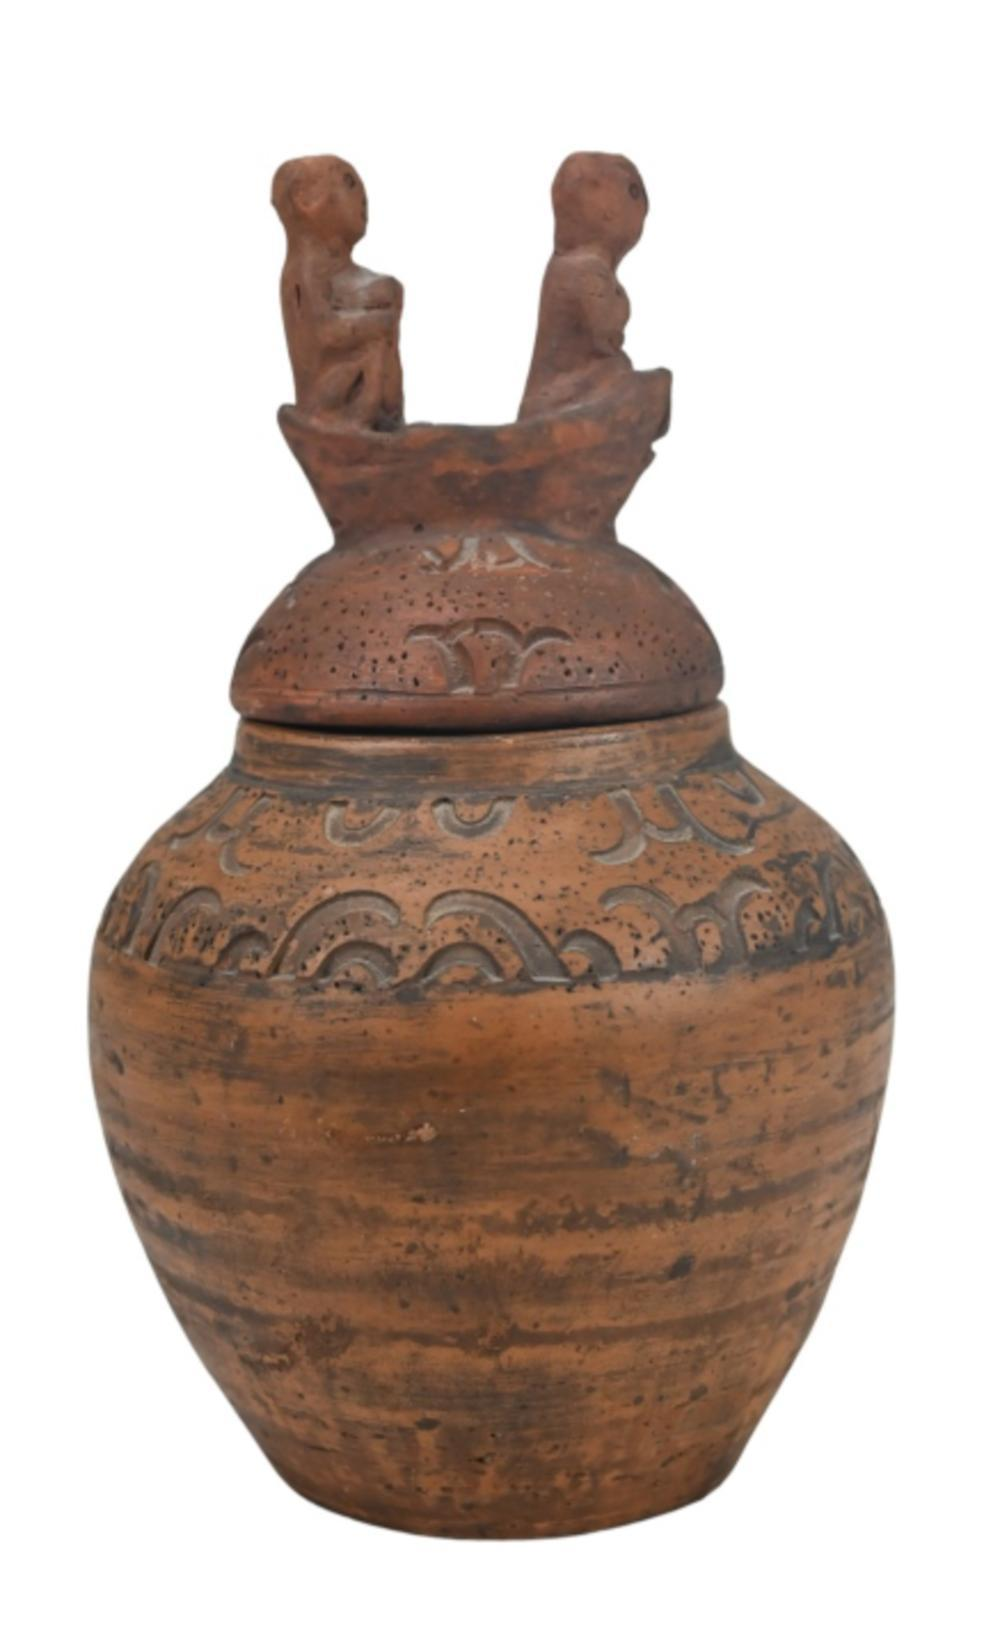manunggul_jar: (65, 100, 898, 1578)
